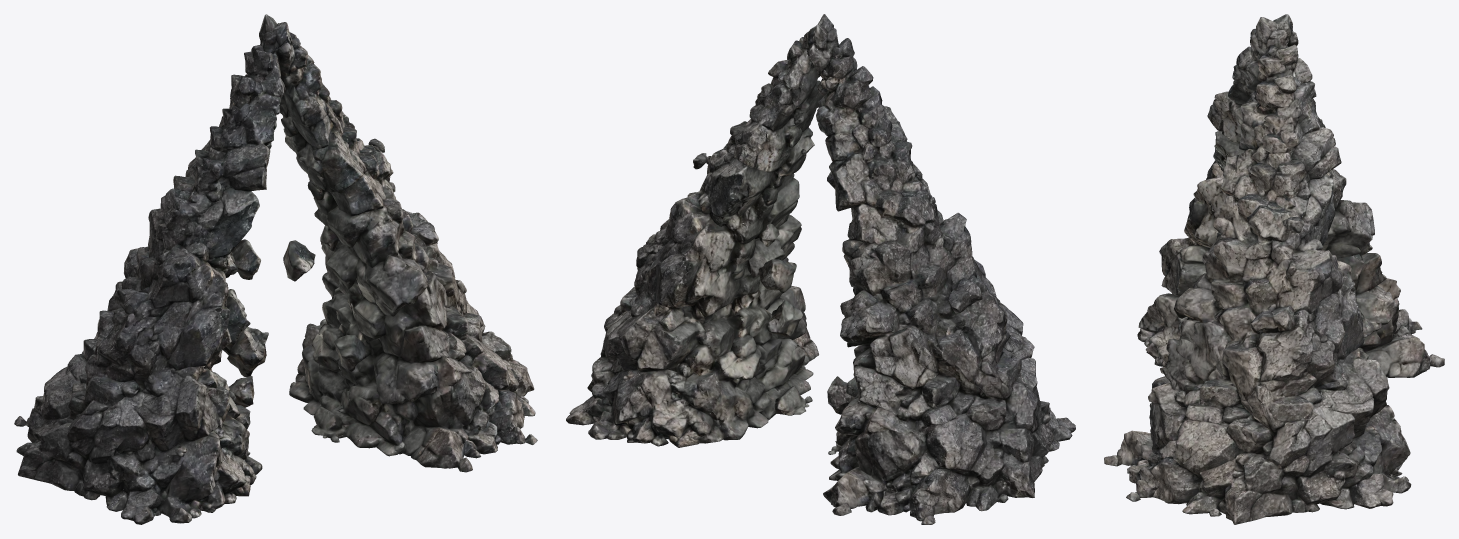
Rendered from mountain.glb.
The picture shows the model from 3 angles, left to right: view 1: azimuth 30°, elevation 25°; view 2: azimuth 150°, elevation 25°; view 3: azimuth 270°, elevation 25°; orthographic projection. The views are drawn at different scales.
Visible parts, largest first — view 1: tripo_node_a678521b-2bbf-4223-a4b3-f3a24dbb64f6; view 2: tripo_node_a678521b-2bbf-4223-a4b3-f3a24dbb64f6; view 3: tripo_node_a678521b-2bbf-4223-a4b3-f3a24dbb64f6.
Boxes of the visible parts, <box> form: tripo_node_a678521b-2bbf-4223-a4b3-f3a24dbb64f6: <box>14,14,537,524</box>; tripo_node_a678521b-2bbf-4223-a4b3-f3a24dbb64f6: <box>566,14,1075,524</box>; tripo_node_a678521b-2bbf-4223-a4b3-f3a24dbb64f6: <box>1104,14,1444,524</box>.
Size of the model in its own units: 0.9807 by 0.8175 by 0.6334.
Materials: 1 (1 with a texture image).
